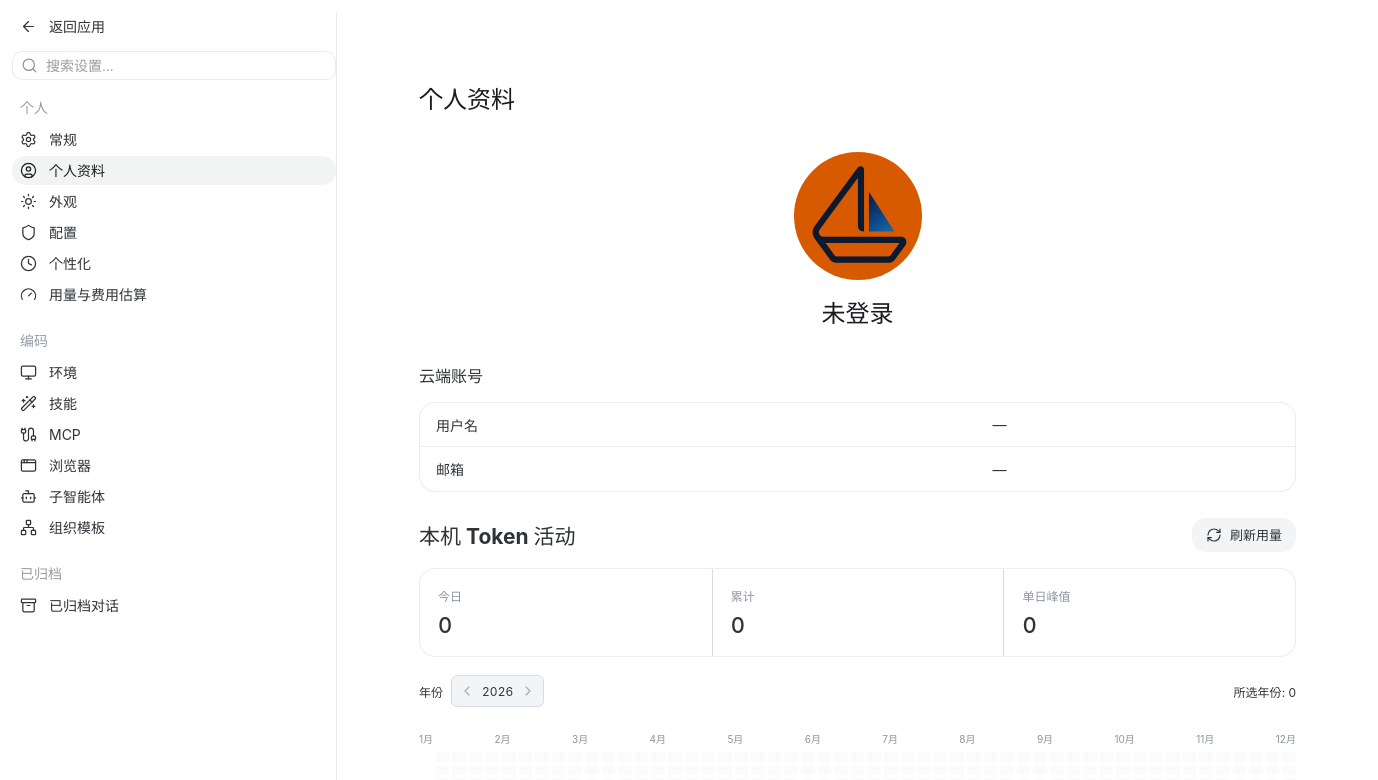
Test: settings sidebar search navigation › keeps IME confirmation on the input and restores normal navigation after Escape
The image size is (1378, 780).
In the search field labelled "搜索设置...": (187, 66) [46, 56, 327, 76], type "半透明侧边栏"
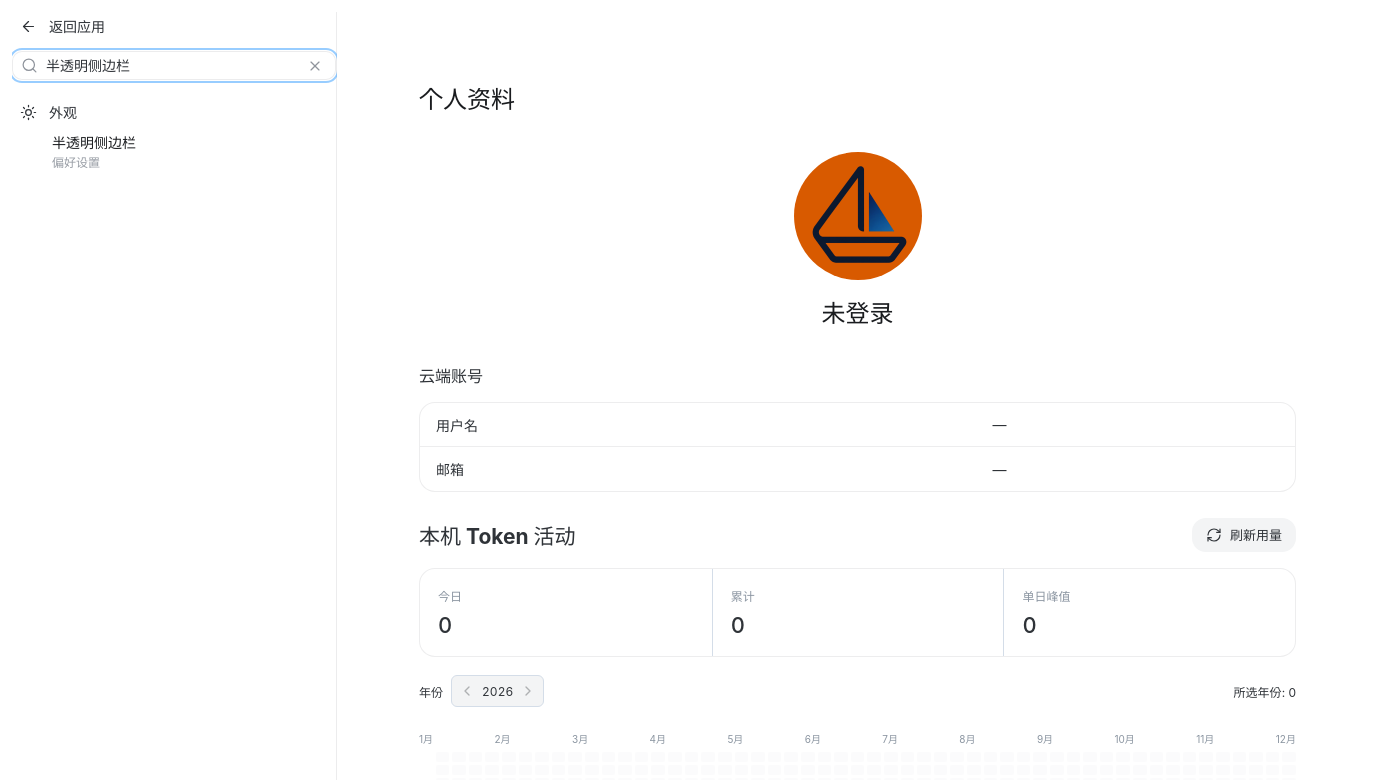
Press Enter in the search field named "搜索设置", box [46, 56, 295, 76]
Expected: the heading "个人资料" is shown, [419, 85, 515, 114]
Press Escape in the search field named "搜索设置", box [46, 56, 295, 76]
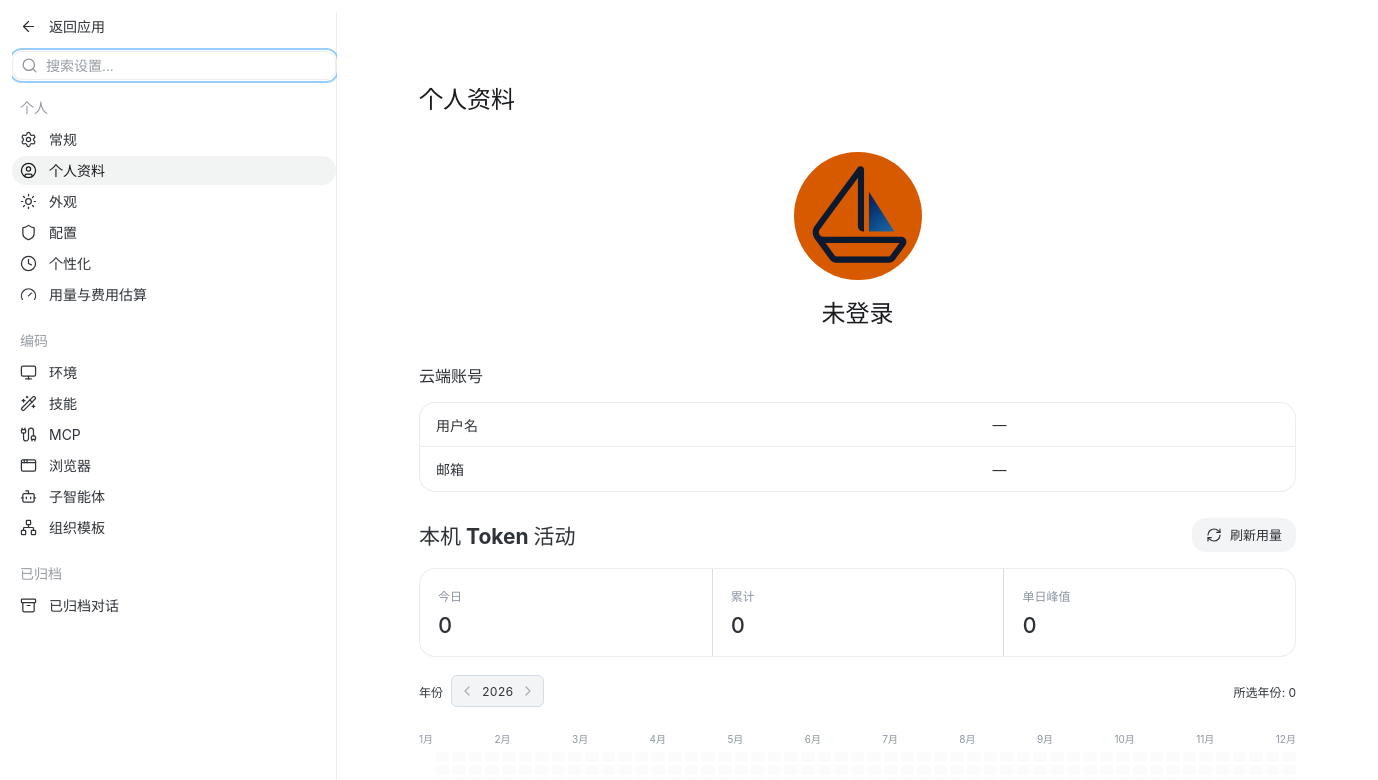
Expected: the search field labelled "搜索设置..." is empty
Expected: the text "个人资料" is shown, [49, 160, 105, 180]
In the search field labelled "搜索设置...": (187, 66) [46, 56, 327, 76], type "不存在的设置 qzx998"
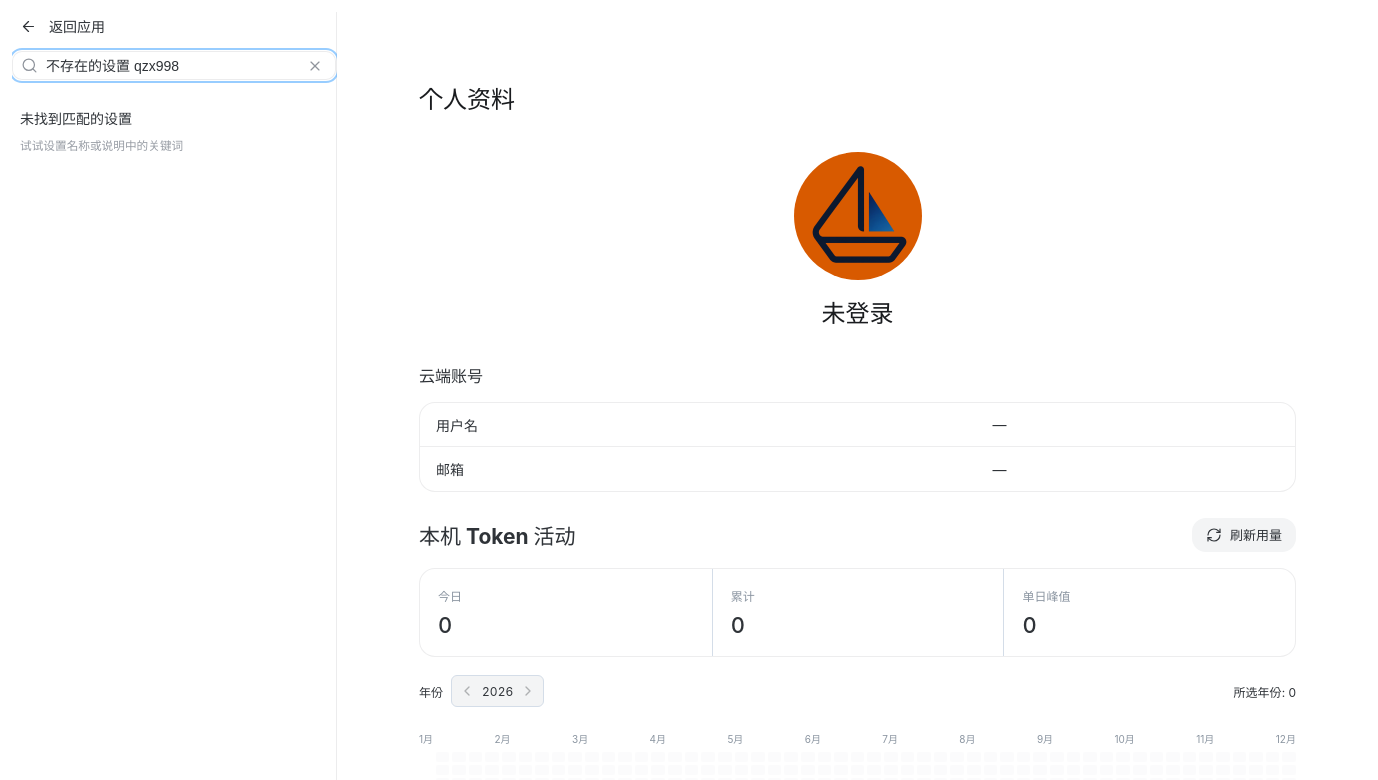
Expected: the message with class "settings-nav__empty" shows "未找到匹配的设置", [20, 110, 132, 127]
